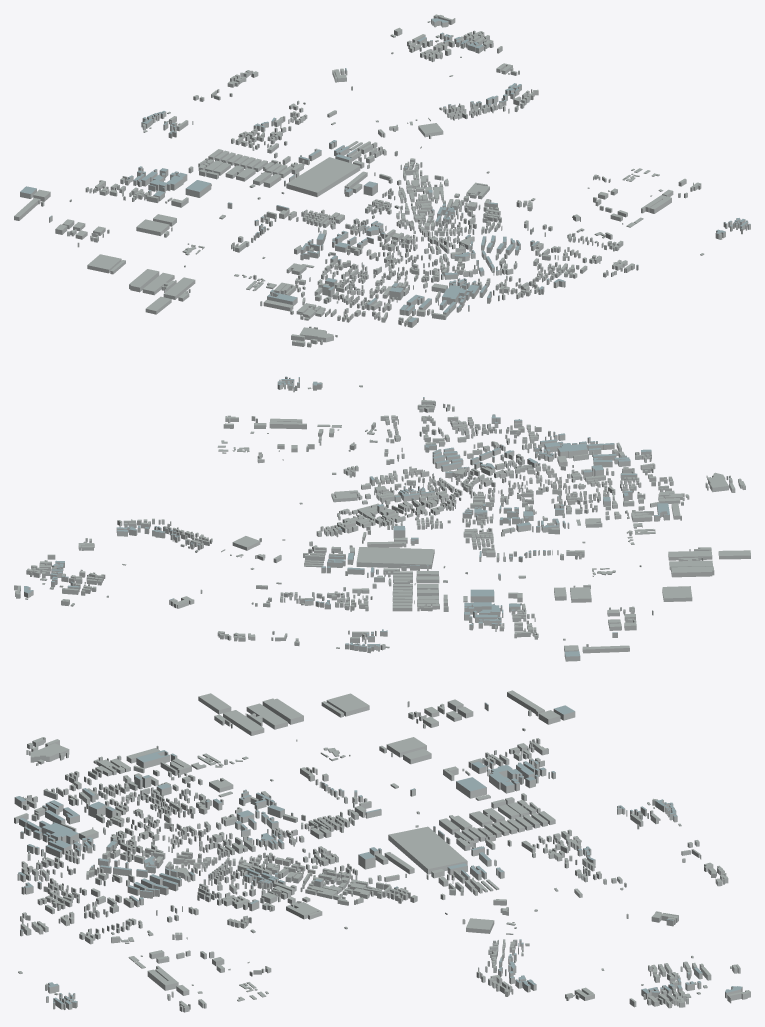
File: far.glb
The picture shows the model from 3 angles, top to bottom: view 1: azimuth 30°, elevation 25°; view 2: azimuth 150°, elevation 25°; view 3: azimuth 270°, elevation 25°; orthographic projection. The views are drawn at different scales.
Size of the model in its own units: 2153 by 31.94 by 2111.
